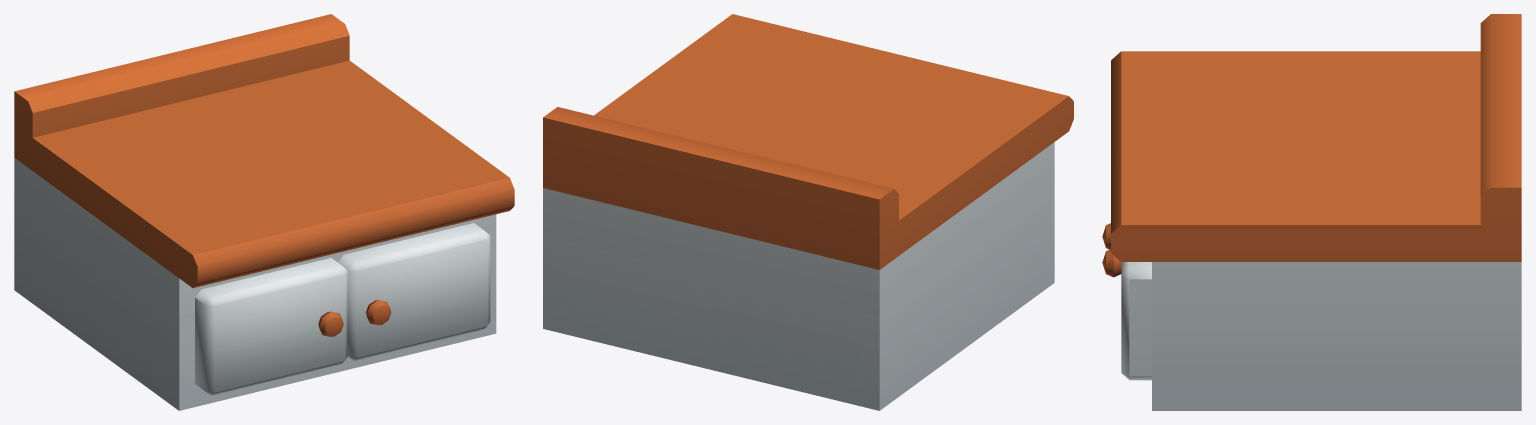
Rendered from kaykit-restaurant-bits-kitchencounter-straight-b-backsplash.glb.
3 views of the same model, side by side, from view 1: azimuth 30°, elevation 25°; view 2: azimuth 150°, elevation 25°; view 3: azimuth 270°, elevation 25° (orthographic). The views are drawn at different scales.
Parts seen in each view (by area): view 1: kitchencounter_straight_B_backsplash; view 2: kitchencounter_straight_B_backsplash; view 3: kitchencounter_straight_B_backsplash.
Part boxes in pixels (x1,y1,x2,y2): kitchencounter_straight_B_backsplash: (14,14,514,410); kitchencounter_straight_B_backsplash: (543,14,1073,410); kitchencounter_straight_B_backsplash: (1102,14,1521,410).
Size of the model in its own units: 2 by 1.2 by 2.04.
Materials: 1 (1 with a texture image).
